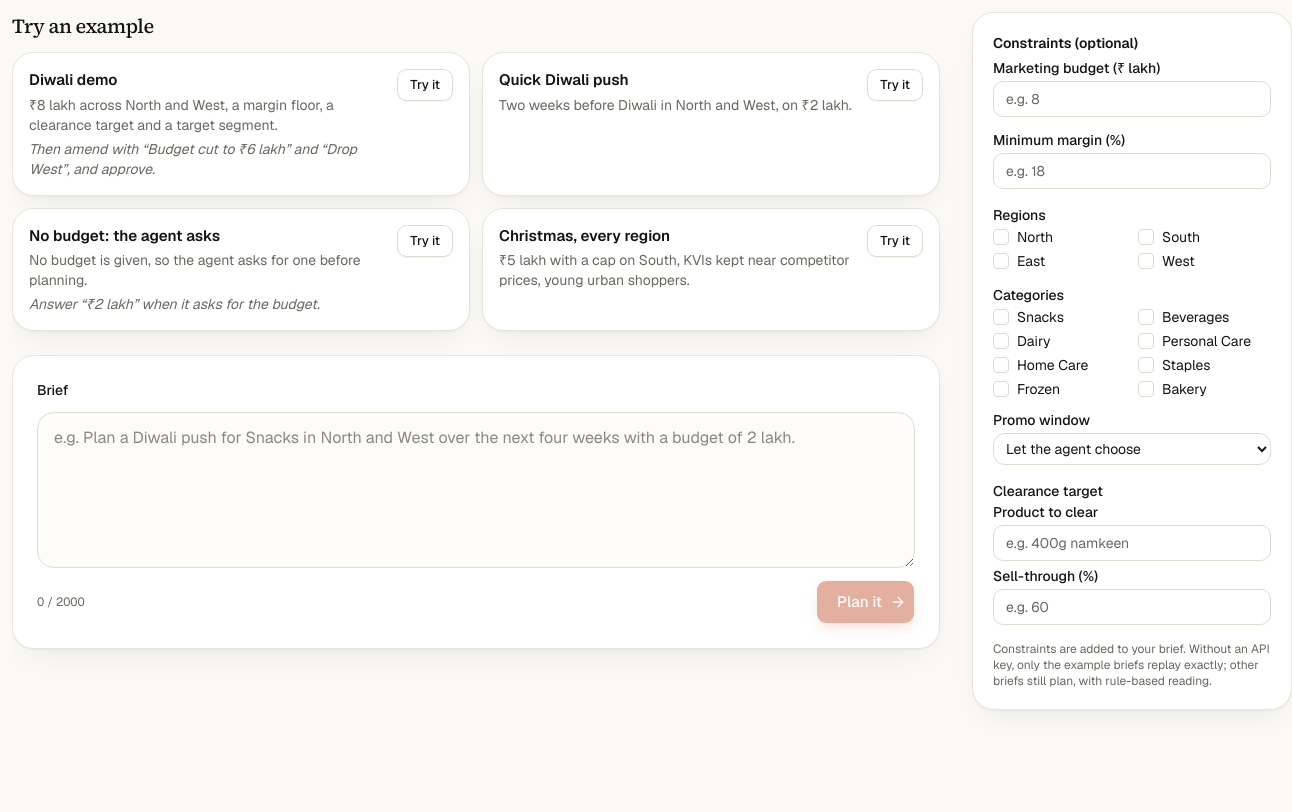
Test case: BriefComposer in demo mode › explains before planning that a brief of its own is not recorded
Replace the text in the text box labelled "Brief" with "Plan a Holi push for Dairy in East, budget 3 lakh". click: (476,490)
box: [37,412,915,568]
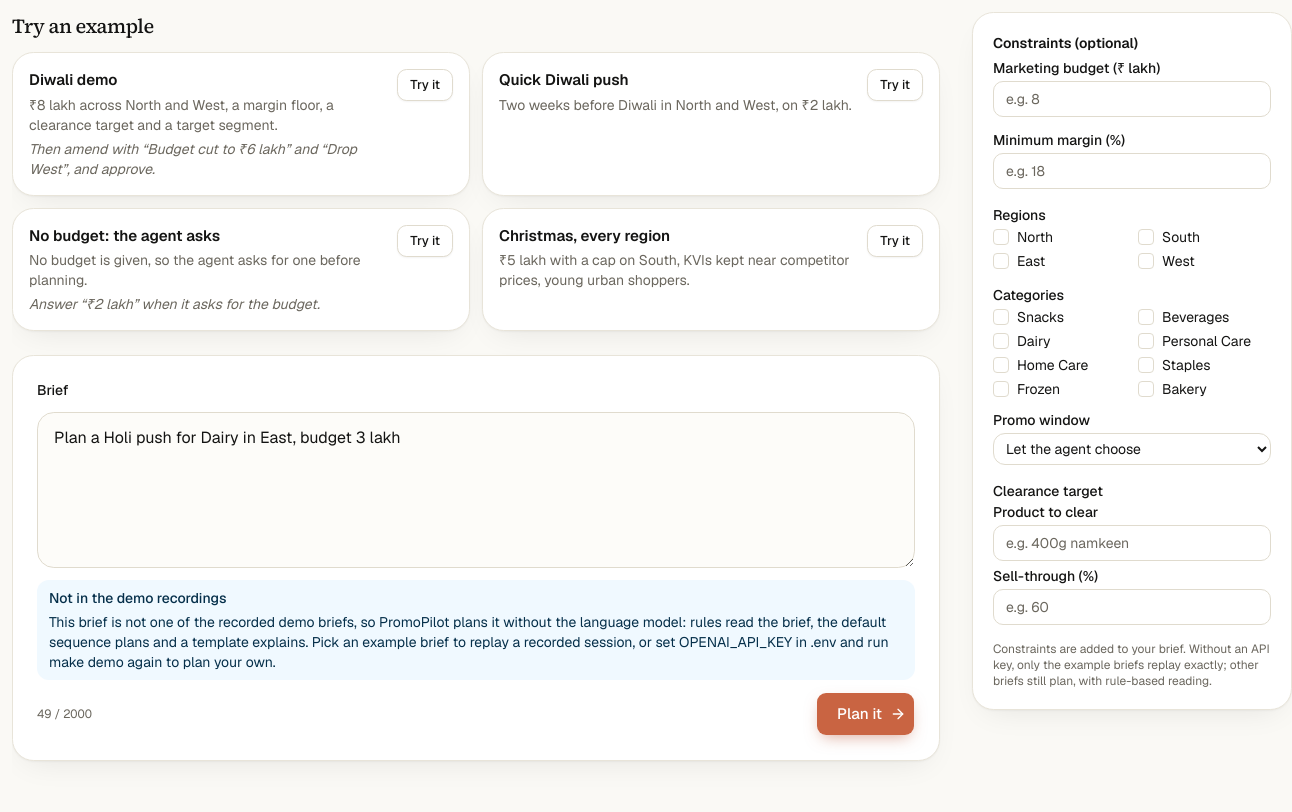
Check: the element "Not in the demo recordings" shows "plans it without the language model", box [49,613,682,631]
Check: the element "Not in the demo recordings" shows "Pick an example brief", box [49,613,889,671]
